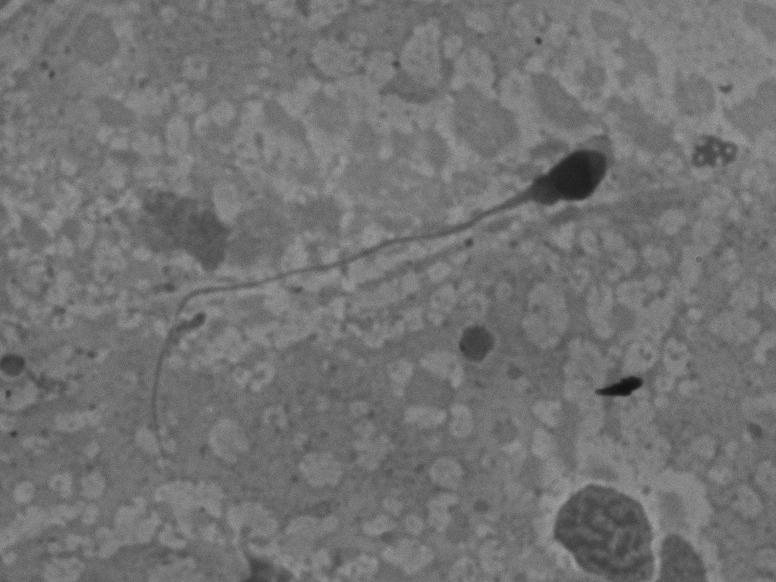Abnormal: (137, 115, 619, 390)
